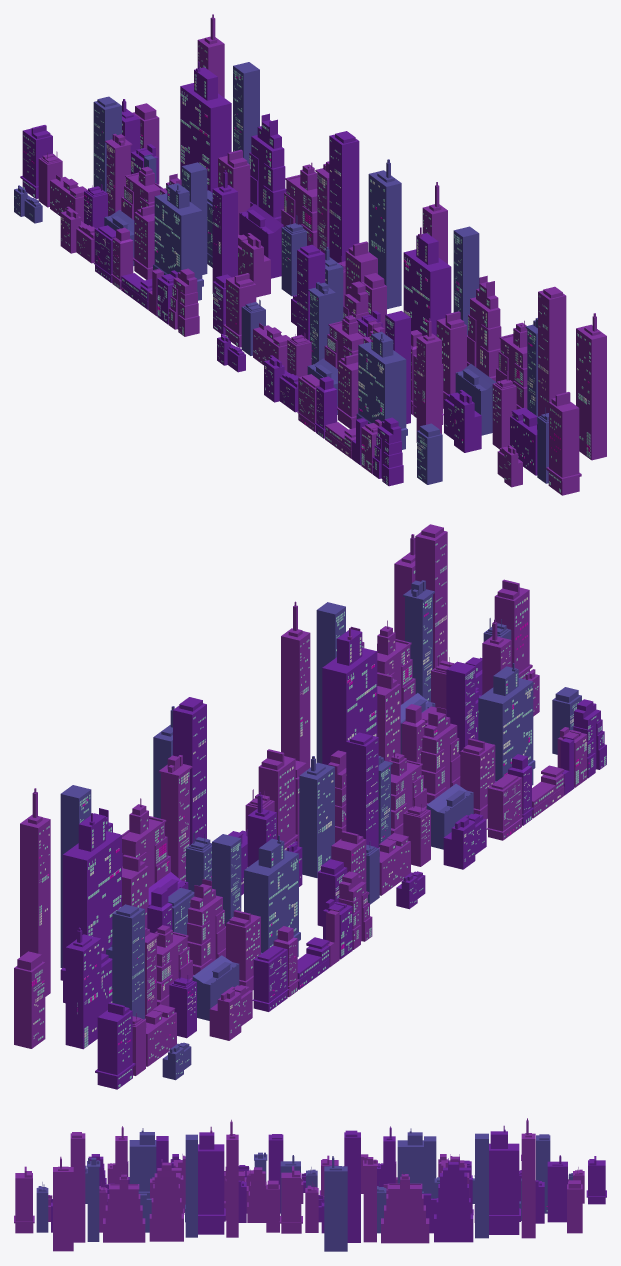
File: coloured_ buildings.fbx
3 views of the same model, one above another, from view 1: azimuth 30°, elevation 25°; view 2: azimuth 150°, elevation 25°; view 3: azimuth 270°, elevation 25° (orthographic). The views are drawn at different scales.
Parts seen in each view (by area): view 1: Buildings; view 2: Buildings; view 3: Buildings.
Boxes of the visible parts, box(x1,y1,x2,y2) form: Buildings: box(14, 14, 606, 495); Buildings: box(14, 524, 606, 1089); Buildings: box(14, 1118, 606, 1251).
Bounding box in the file's own units: 37.39 × 34.01 × 149.
